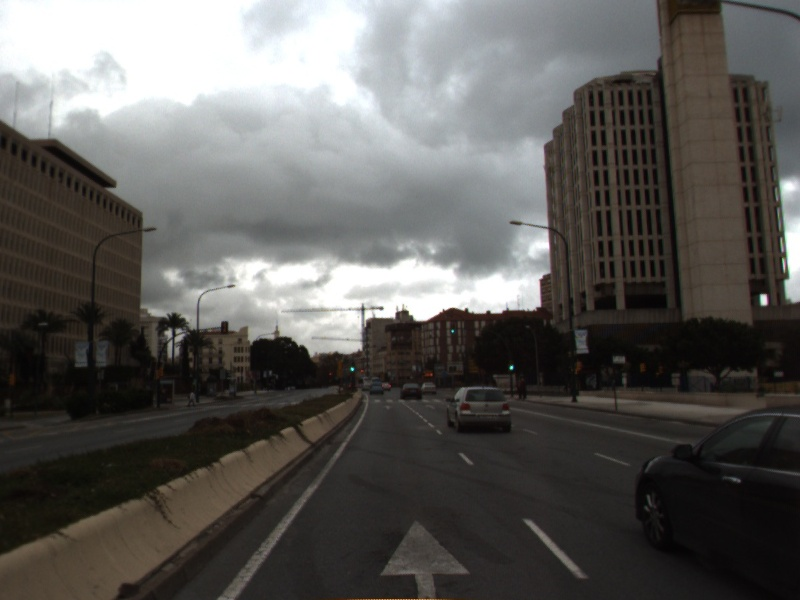STRAIGHT: (375, 515, 476, 600), (423, 402, 437, 411), (382, 404, 394, 411)
